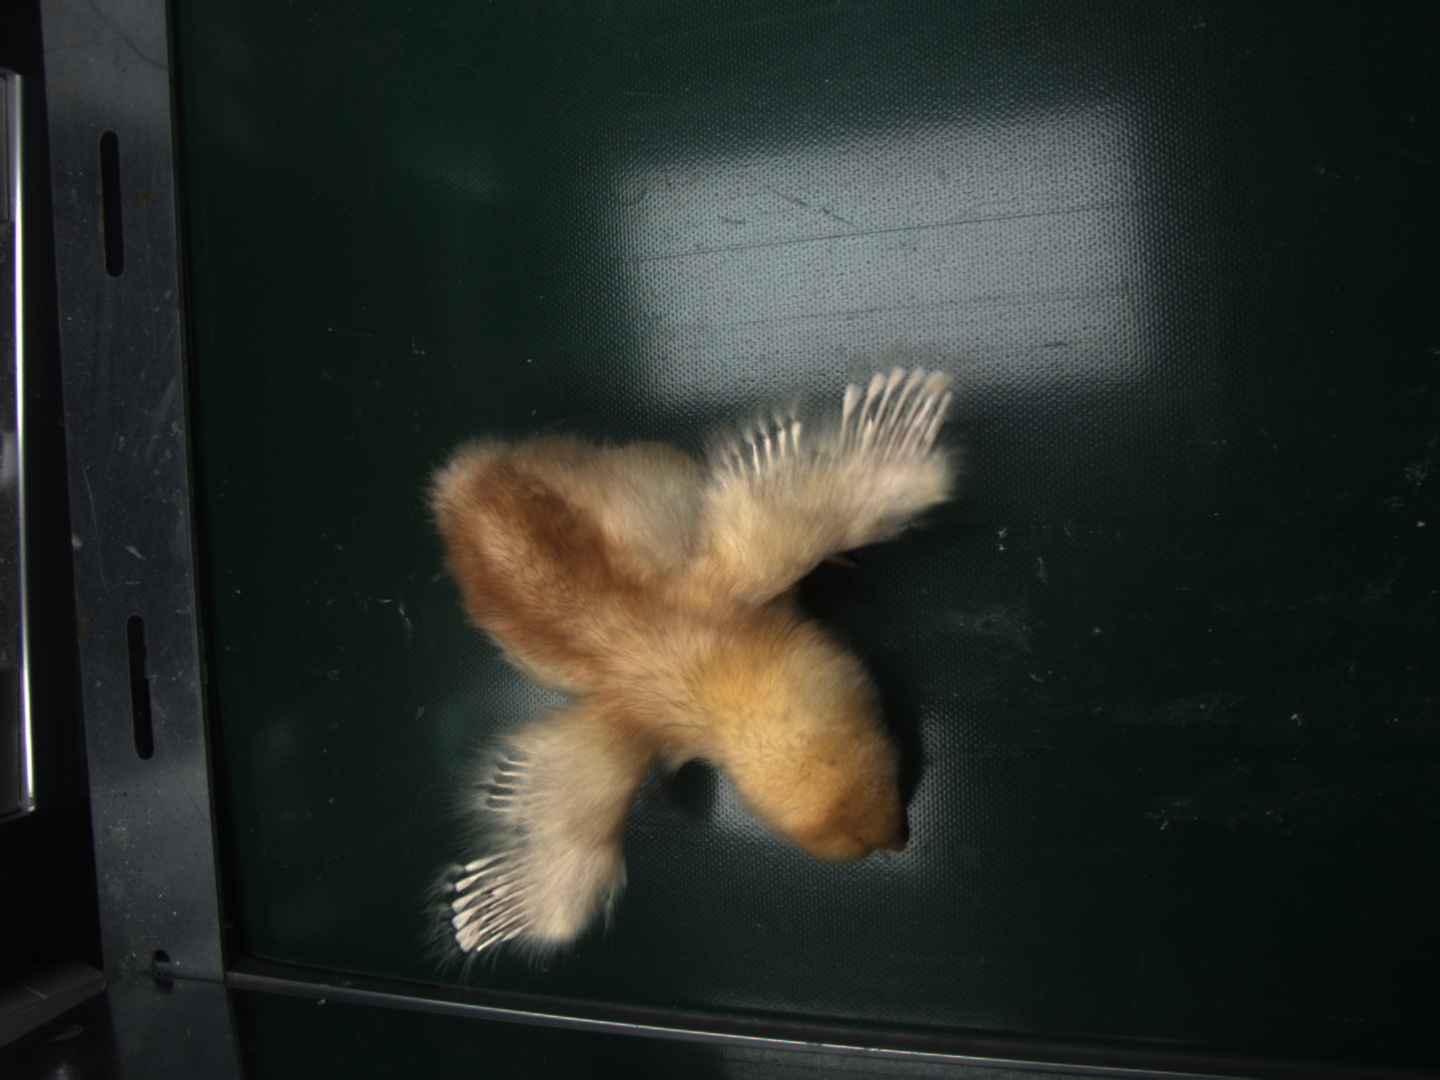female: (836, 370, 955, 448), (450, 853, 535, 955)
